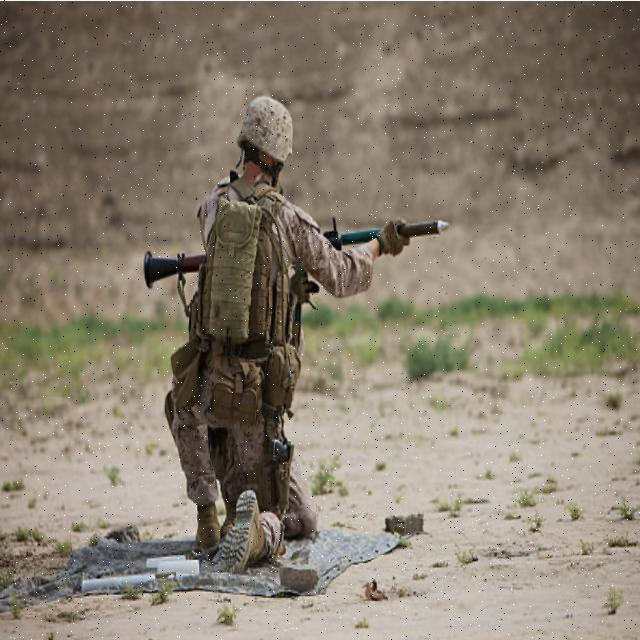bazooka: (144, 213, 456, 296)
